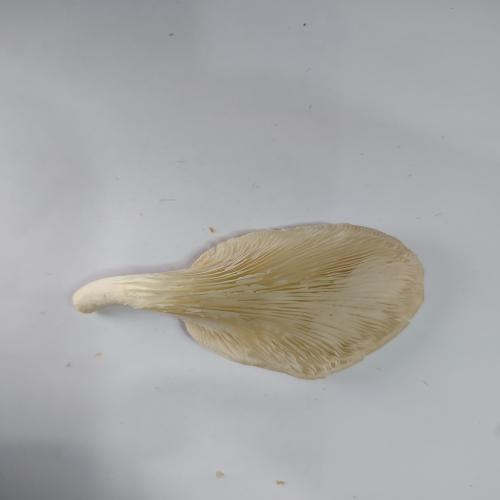Oyster Mushroom: (72, 222, 426, 380)
